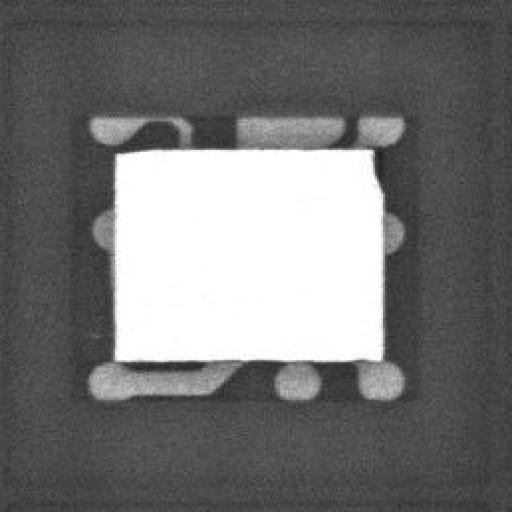DIE_INK: (369, 144, 381, 194), (111, 142, 157, 152)
